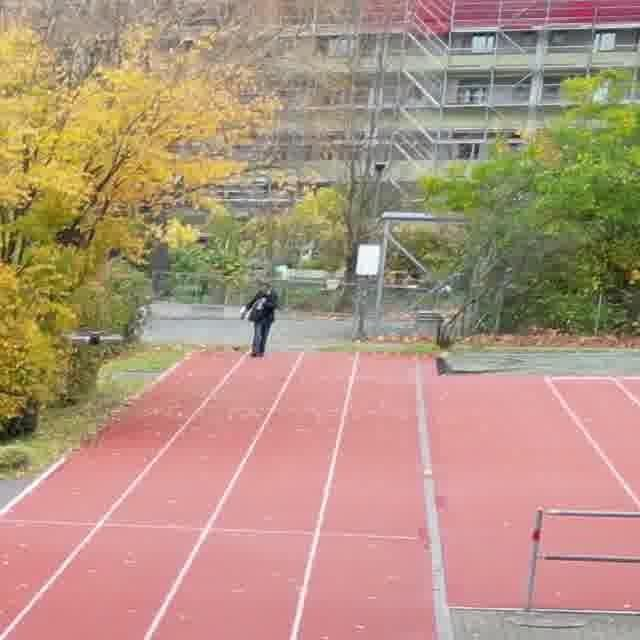Drohne: (66, 330, 123, 344)
